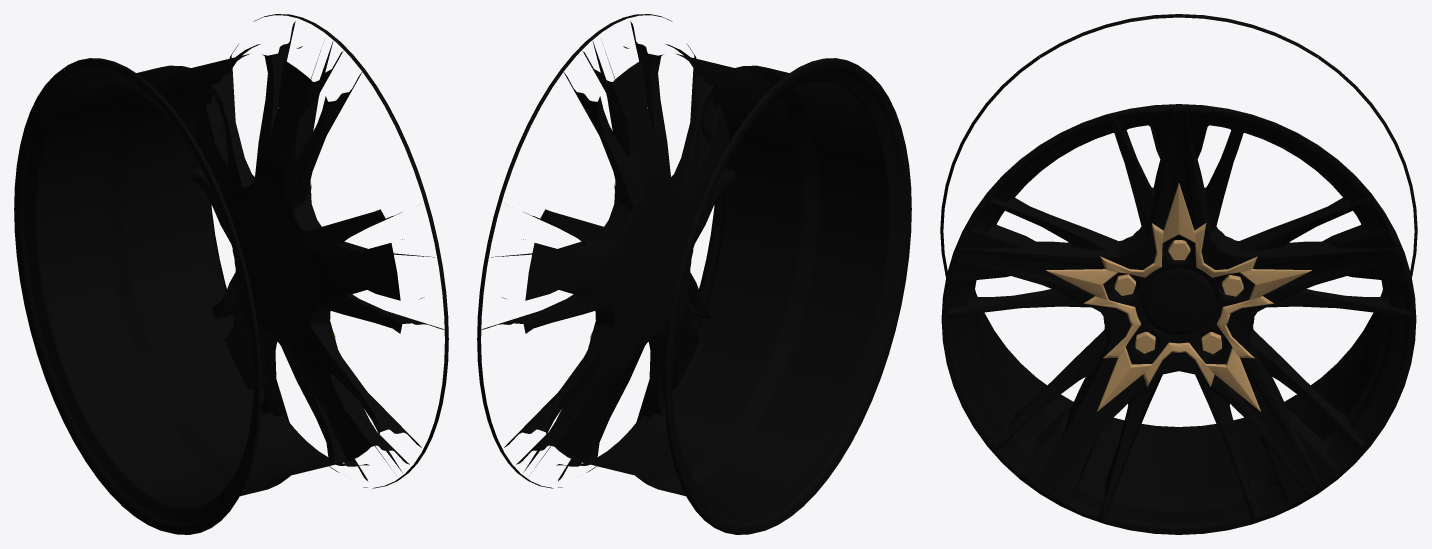
The model's file is Rim_FR_Bronze.glb.
3 renders of one model, left to right at view 1: azimuth 30°, elevation 25°; view 2: azimuth 150°, elevation 25°; view 3: azimuth 270°, elevation 25°, orthographic. The views are drawn at different scales.
Visible parts, largest first — view 1: WheelFrontRRim; view 2: WheelFrontRRim; view 3: WheelFrontRRim.
Part boxes in pixels (left/top/right/bottom): WheelFrontRRim: left=14, top=14, right=448, bottom=534; WheelFrontRRim: left=477, top=14, right=911, bottom=534; WheelFrontRRim: left=940, top=14, right=1417, bottom=534.
Bounding box in the file's own units: 0.2785 × 0.6066 × 0.6066.
